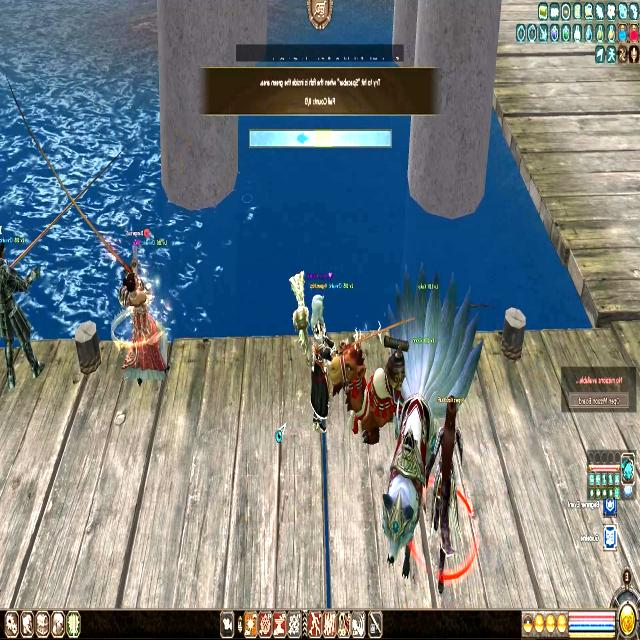fishes: (296, 131, 309, 146)
